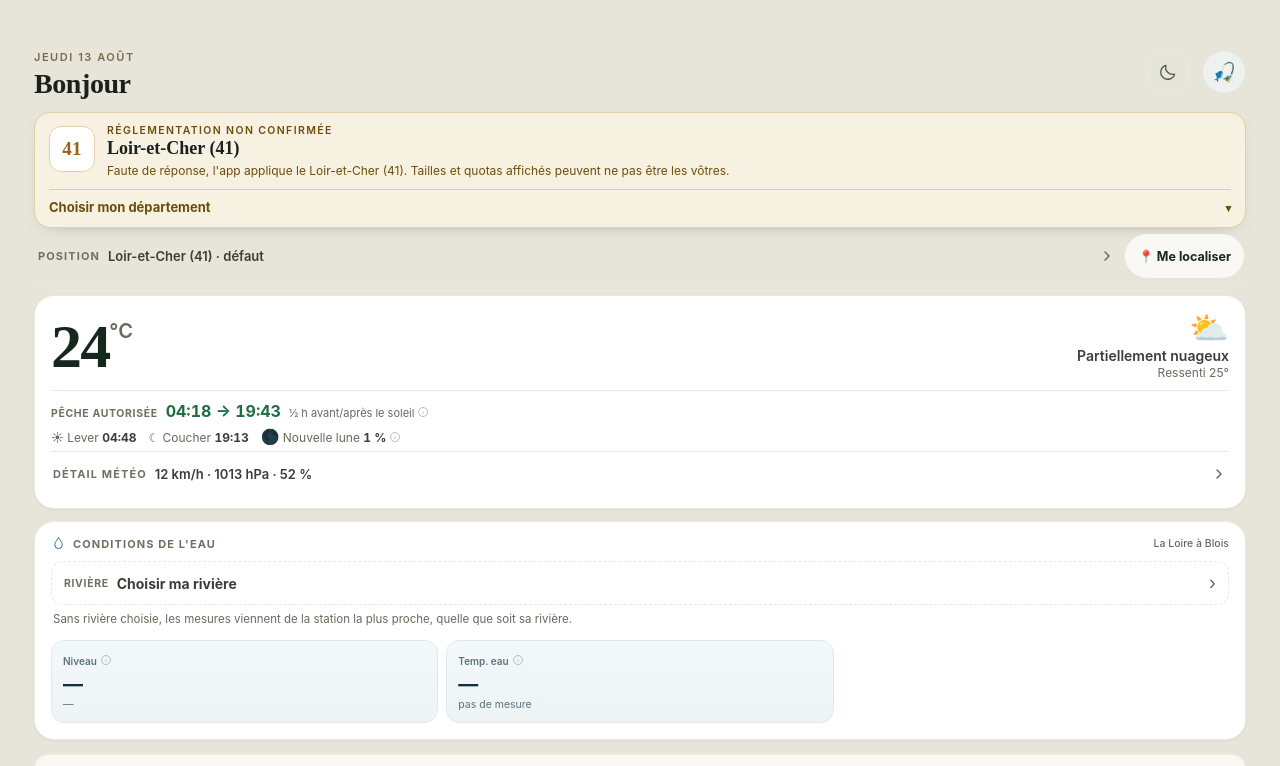
Test case: StrictMode : le double montage ne condamne pas la chaîne GPS › le département détecté est appliqué — la garde imbriquée passe aussi
Click the button "📍 Me localiser".
click(1185, 256)  # box left=1125, top=234, right=1244, bottom=278
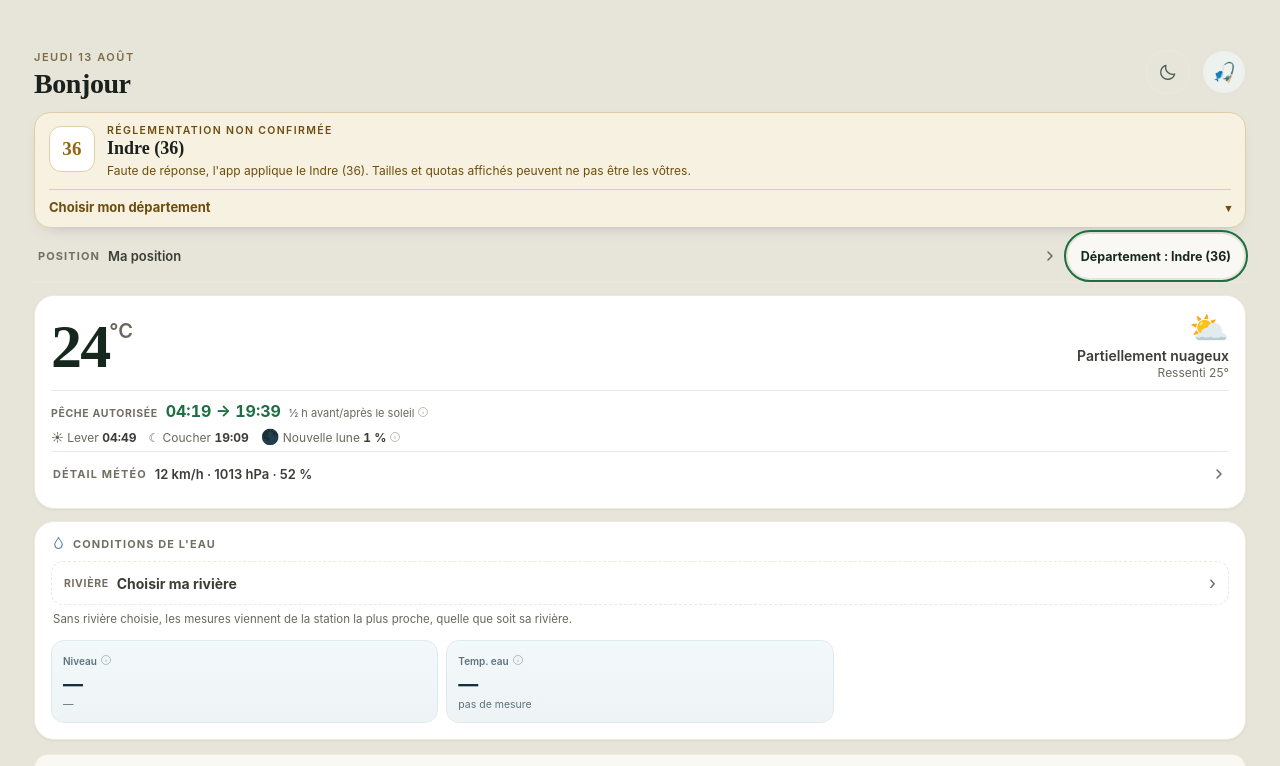
Expected: the button "Département : Indre (36)" is shown, left=1068, top=234, right=1244, bottom=278
